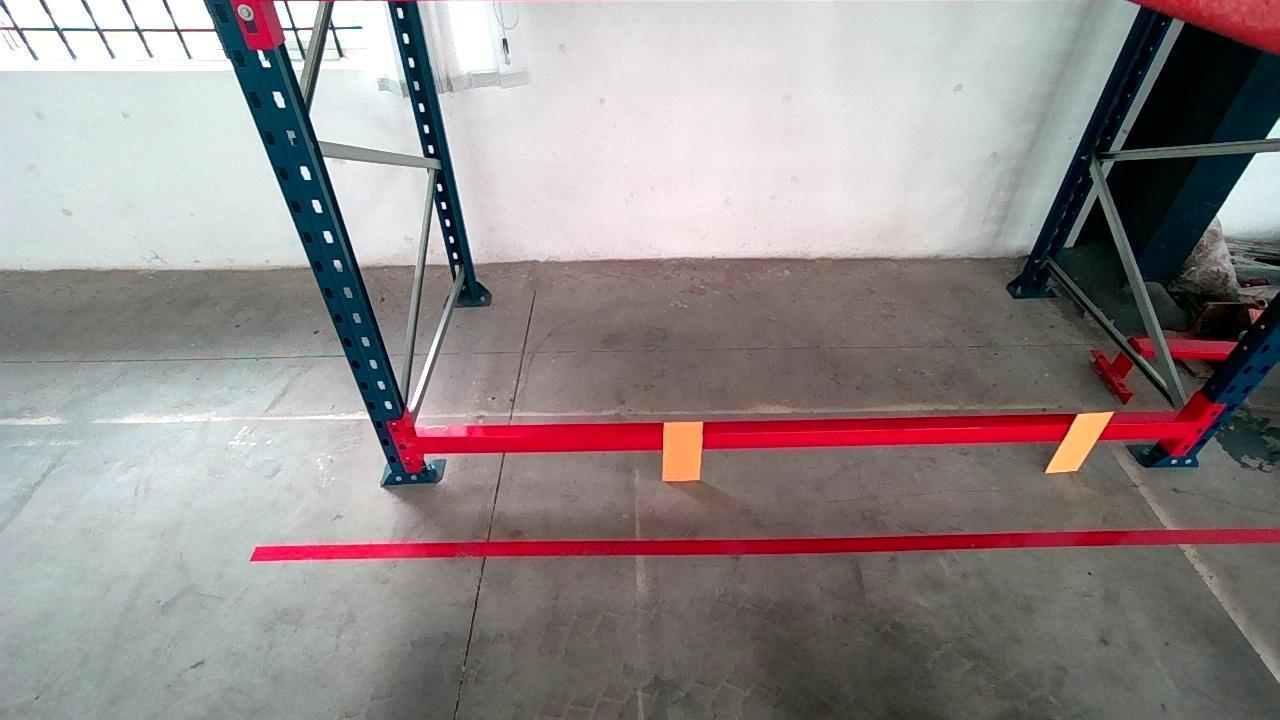h_rack: (411, 425, 1190, 453)
orange_strip: (1047, 410, 1116, 471), (662, 419, 704, 480)
red_line: (250, 525, 1280, 560)
